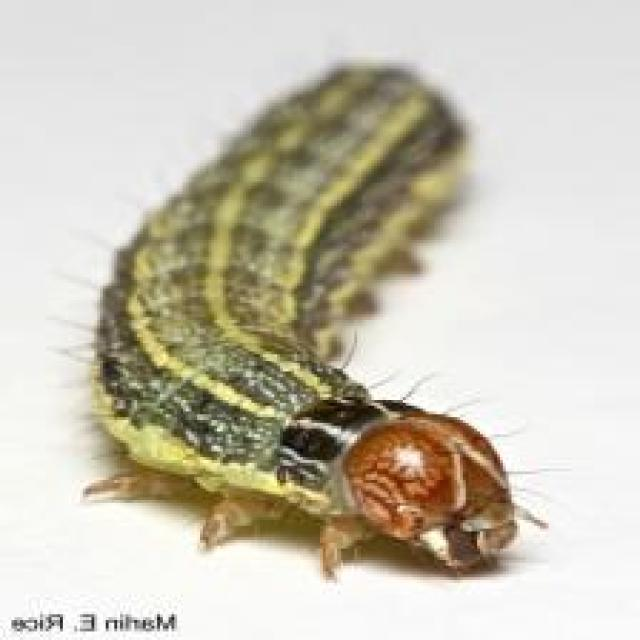Plaga: (61, 49, 544, 584)
